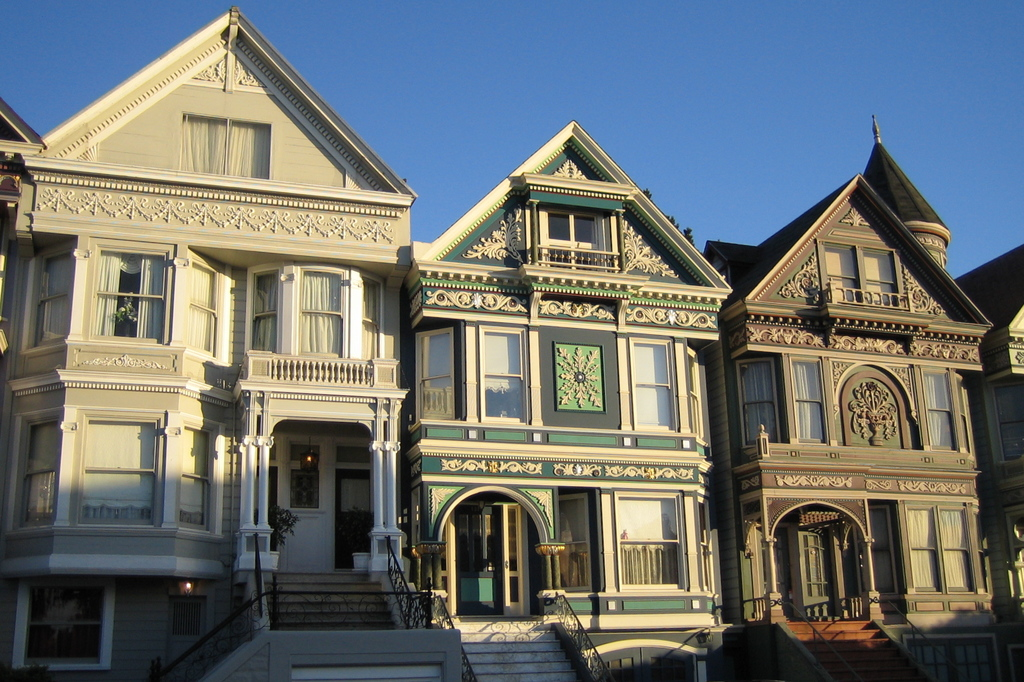Window: (247, 268, 404, 373), (78, 404, 168, 537), (168, 104, 285, 189), (90, 249, 168, 373), (599, 332, 689, 434), (915, 508, 982, 637), (13, 412, 74, 550), (533, 206, 634, 275), (798, 247, 918, 305), (10, 248, 70, 353), (476, 309, 525, 432), (740, 352, 788, 471), (175, 254, 227, 359), (175, 441, 237, 521), (918, 384, 963, 478), (410, 327, 454, 421), (779, 361, 823, 444)
